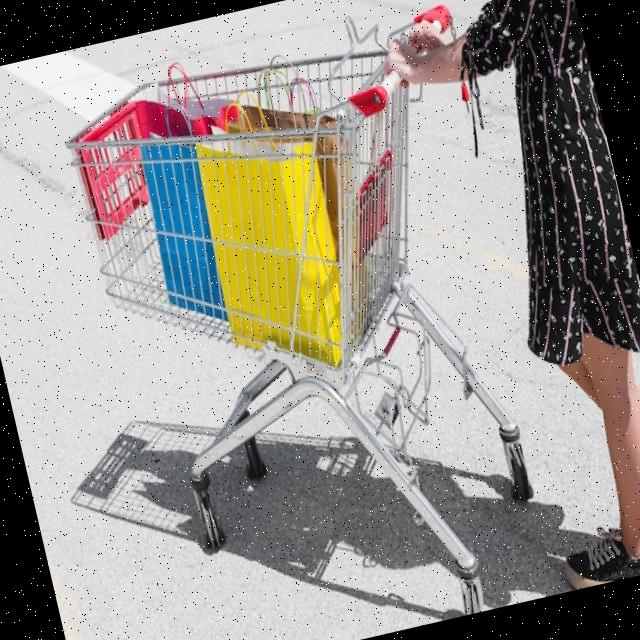Person: (361, 0, 640, 605)
